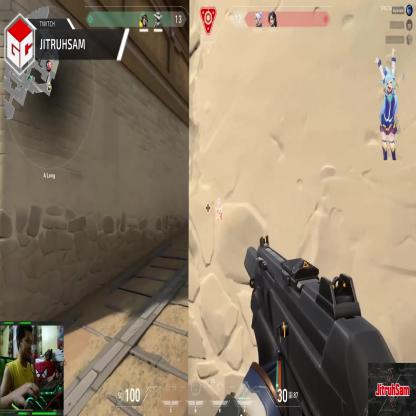enemy: (216, 197, 221, 223)
enemy_head: (217, 196, 220, 204)
